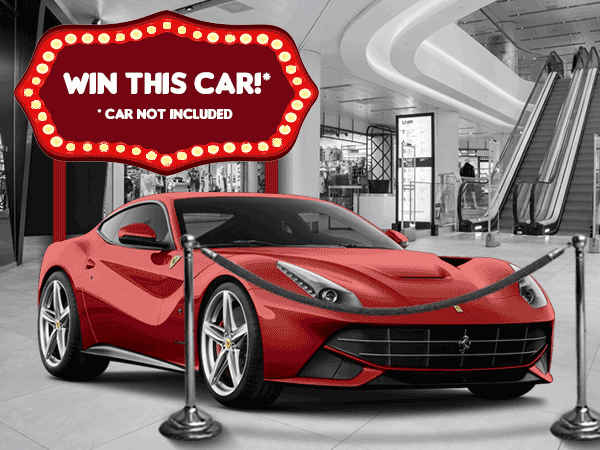car: (34, 184, 581, 418)
